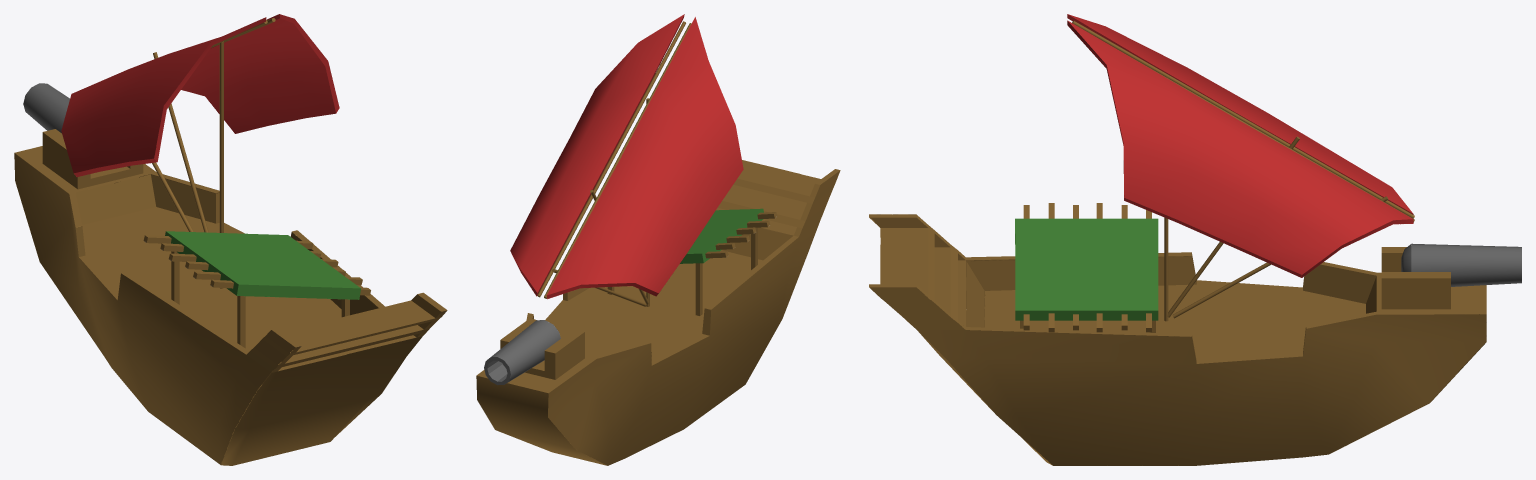
The model's file is Model Textured_Bomber Enemy.fbx.
The picture shows the model from 3 angles, left to right: view 1: azimuth 30°, elevation 25°; view 2: azimuth 150°, elevation 25°; view 3: azimuth 270°, elevation 25°; orthographic projection. The views are drawn at different scales.
Visible parts, largest first — view 1: Bomb_Wood, Bomber Sail001, Bomber Sail, Bomb_Leaf, Bomber 2, Bomb_Wood002; view 2: Bomb_Wood, Bomber Sail, Bomber Sail001, Bomber 2, Bomb_Leaf, Bomb_Top Poll001, Bomb_Top Poll, Bomb_Wood001; view 3: Bomb_Wood, Bomber Sail001, Bomb_Leaf, Bomber Sail, Bomber 2, Bomb_Top Poll.
Boxes of the visible parts, bbox=[...] form: Bomb_Wood: bbox=[14, 41, 447, 465]; Bomber Sail001: bbox=[181, 14, 339, 133]; Bomber Sail: bbox=[61, 17, 266, 176]; Bomb_Leaf: bbox=[165, 231, 360, 299]; Bomber 2: bbox=[23, 83, 69, 133]; Bomb_Wood002: bbox=[237, 296, 349, 348]; Bomb_Wood: bbox=[476, 98, 840, 465]; Bomber Sail: bbox=[546, 17, 743, 299]; Bomber Sail001: bbox=[510, 14, 684, 296]; Bomber 2: bbox=[484, 320, 560, 385]; Bomb_Leaf: bbox=[680, 208, 763, 263]; Bomb_Top Poll001: bbox=[537, 21, 685, 297]; Bomb_Top Poll: bbox=[544, 23, 691, 298]; Bomb_Wood001: bbox=[607, 263, 702, 315]; Bomb_Wood: bbox=[869, 136, 1486, 465]; Bomber Sail001: bbox=[1067, 20, 1413, 277]; Bomb_Leaf: bbox=[1015, 218, 1158, 320]; Bomber Sail: bbox=[1067, 14, 1413, 214]; Bomber 2: bbox=[1401, 243, 1521, 286]; Bomb_Top Poll: bbox=[1072, 20, 1414, 218].
Bounding box in the file's own units: 49.46 × 109 × 152.
